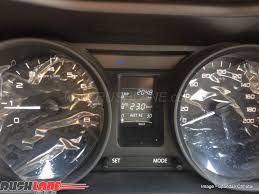Digital_Meter: (120, 89, 154, 99)
